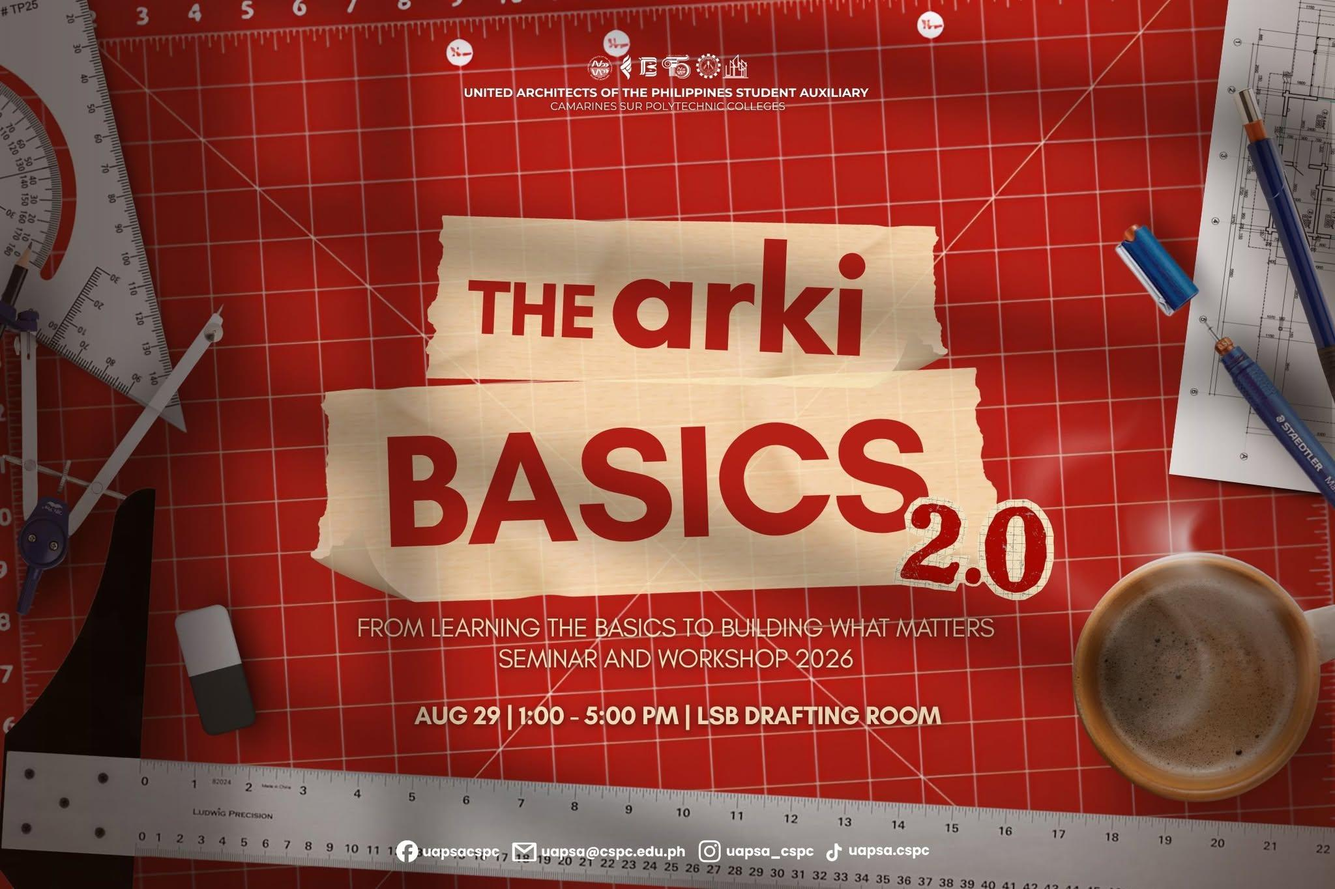embellishment: (0, 0, 1334, 888), (306, 215, 1056, 602)
logo: (585, 53, 616, 84), (663, 53, 694, 82), (722, 50, 751, 81), (695, 837, 725, 866), (695, 51, 724, 80), (393, 837, 421, 865), (509, 839, 540, 864), (636, 54, 661, 82), (616, 53, 637, 84), (824, 839, 846, 866)
text: (376, 236, 1064, 607), (351, 608, 1004, 672), (410, 697, 952, 733), (458, 83, 876, 116), (540, 844, 689, 862), (725, 843, 819, 863), (846, 844, 936, 861), (419, 844, 501, 860)
underlay: (99, 0, 1323, 801)
